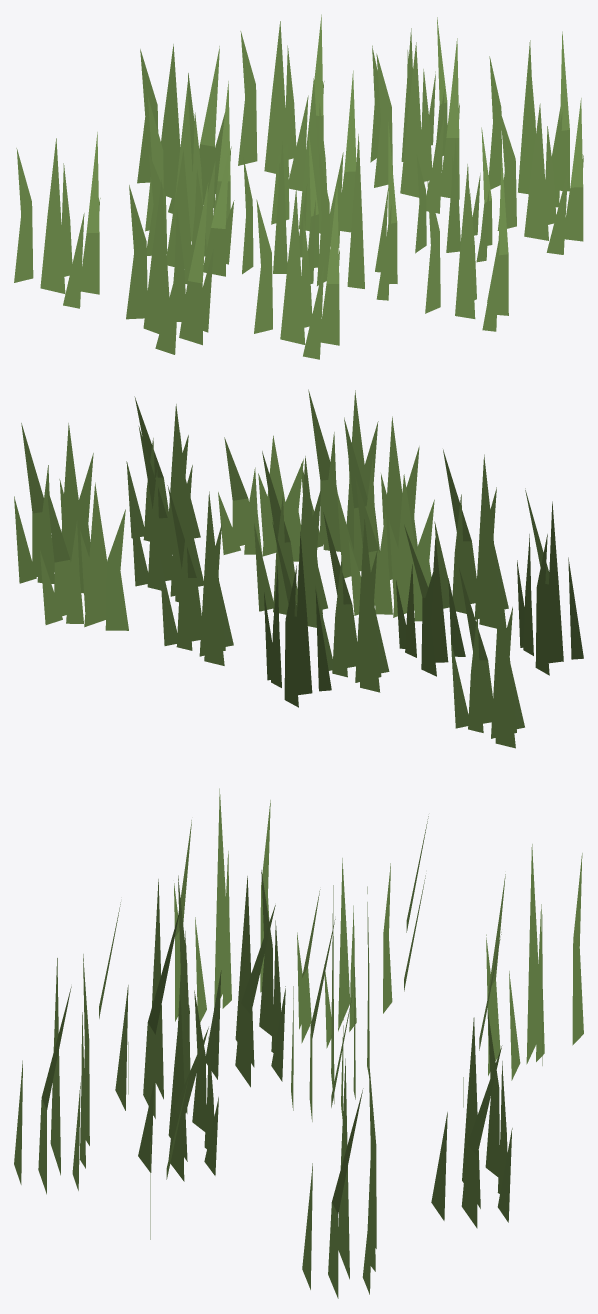
The model's file is Grass_2.fbx.
3 renders of one model, top to bottom at view 1: azimuth 30°, elevation 25°; view 2: azimuth 150°, elevation 25°; view 3: azimuth 270°, elevation 25°, orthographic. The views are drawn at different scales.
Parts seen in each view (by area): view 1: Grass_2; view 2: Grass_2; view 3: Grass_2.
Boxes of the visible parts, bbox=[...] form: Grass_2: bbox=[14, 14, 583, 359]; Grass_2: bbox=[14, 389, 583, 748]; Grass_2: bbox=[14, 788, 583, 1298].
Size of the model in its own units: 228 by 84.78 by 160.
